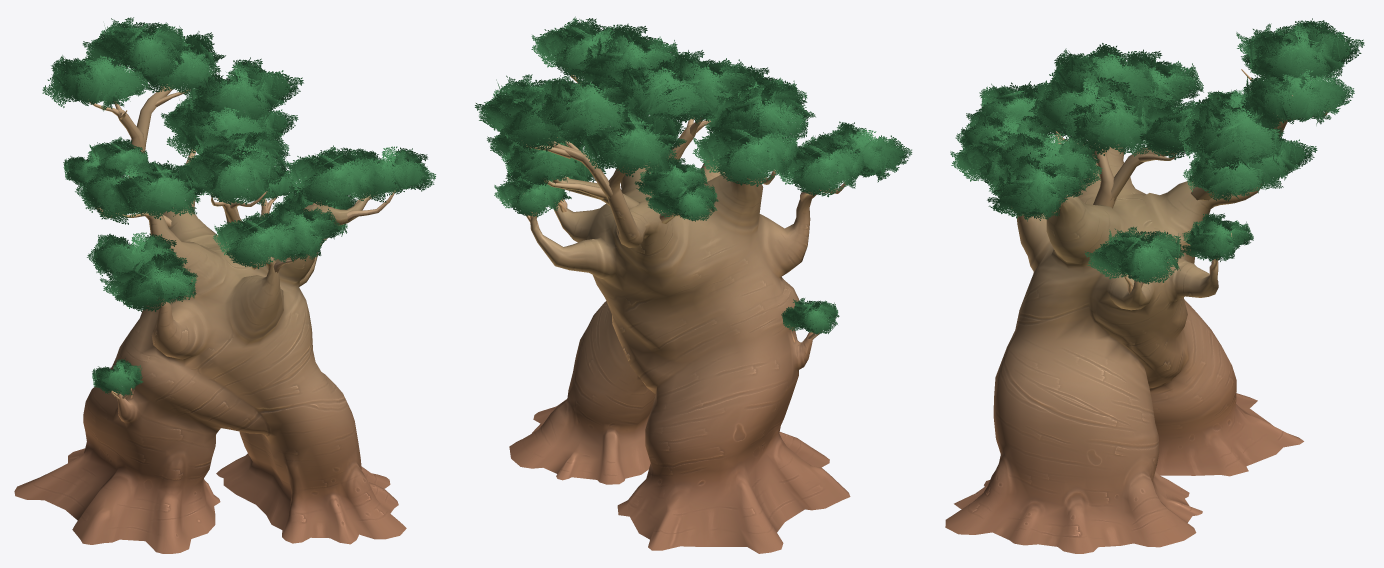
The model's file is big_baobab_GEO.fbx.
3 views of the same model, side by side, from view 1: azimuth 30°, elevation 25°; view 2: azimuth 150°, elevation 25°; view 3: azimuth 270°, elevation 25° (orthographic). The views are drawn at different scales.
Visible parts, largest first — view 1: big_baobab_trunk_LOD0, big_baobab_bush_LOD0; view 2: big_baobab_trunk_LOD0, big_baobab_bush_LOD0; view 3: big_baobab_trunk_LOD0, big_baobab_bush_LOD0.
Boxes of the visible parts, box(x1,y1,x2,y2) form: big_baobab_trunk_LOD0: box(14, 84, 406, 553); big_baobab_bush_LOD0: box(42, 17, 435, 396); big_baobab_trunk_LOD0: box(509, 75, 850, 553); big_baobab_bush_LOD0: box(475, 16, 912, 334); big_baobab_trunk_LOD0: box(945, 69, 1328, 553); big_baobab_bush_LOD0: box(950, 18, 1364, 284).
Size of what is drawn, in the model's own units: 6.12 by 7.36 by 6.23.
